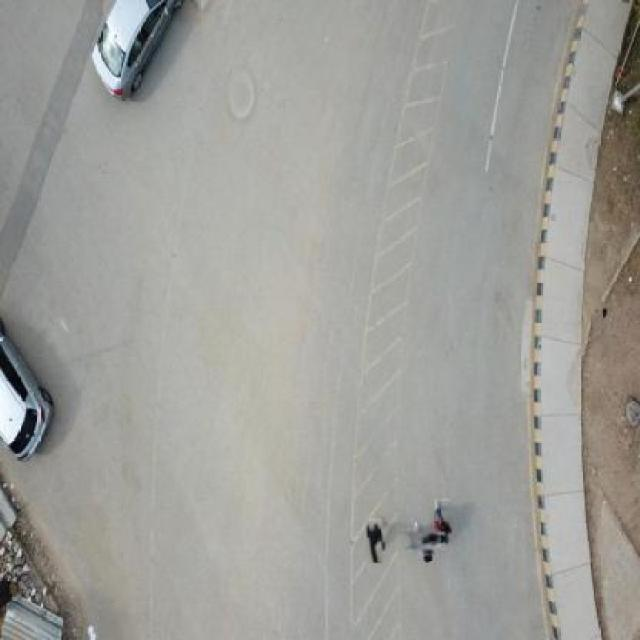Person: (409, 525, 440, 557), (434, 499, 452, 546), (367, 519, 385, 564)
